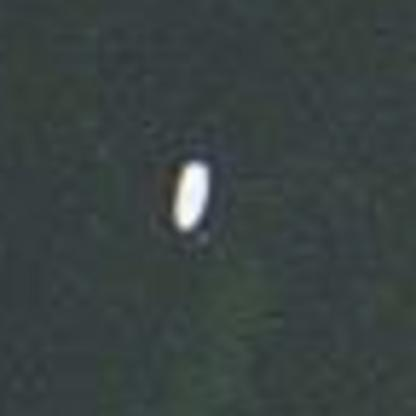ship: (157, 151, 219, 238)
